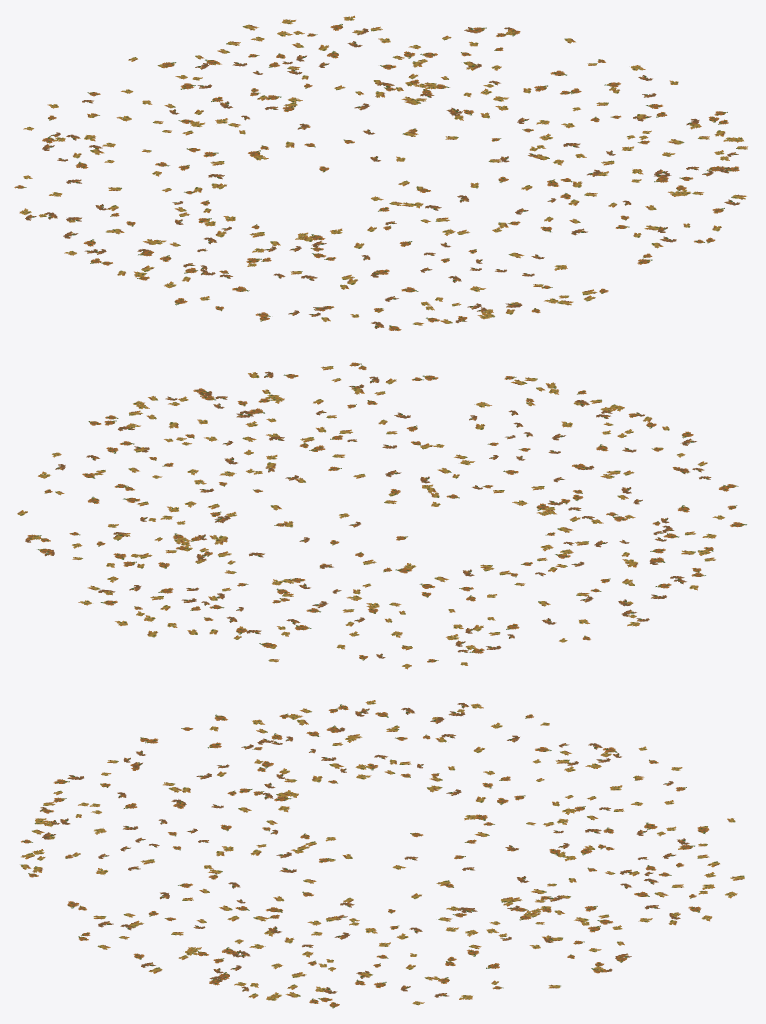
The model's file is chene_adulte_b.fbx.
The picture shows the model from 3 angles, top to bottom: view 1: azimuth 30°, elevation 25°; view 2: azimuth 150°, elevation 25°; view 3: azimuth 270°, elevation 25°; orthographic projection.
Parts seen in each view (by area): view 1: chene_adulte_b_feuilles_sol; view 2: chene_adulte_b_feuilles_sol; view 3: chene_adulte_b_feuilles_sol.
Part boxes in pixels (<box>): chene_adulte_b_feuilles_sol: <box>14,15,747,330</box>; chene_adulte_b_feuilles_sol: <box>17,362,746,669</box>; chene_adulte_b_feuilles_sol: <box>20,700,744,1008</box>.
Size of what is drawn, in the model's own units: 17.37 by 0.00598 by 17.43.
